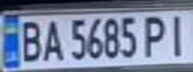5: (118, 14, 142, 58), (66, 16, 87, 61)
6: (84, 15, 106, 61)
8: (103, 15, 124, 60)
A: (39, 17, 66, 63)
B: (15, 18, 45, 63)
I: (163, 11, 193, 57)
P: (139, 12, 172, 59)
